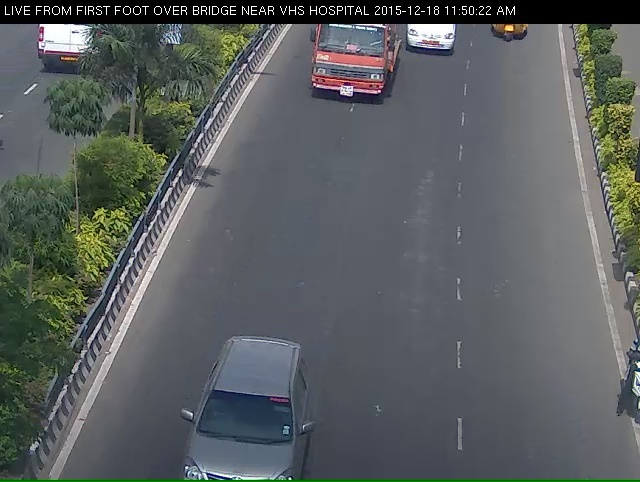Bus: (302, 24, 396, 119)
Car: (179, 355, 301, 476), (403, 21, 460, 63), (481, 21, 535, 53)
